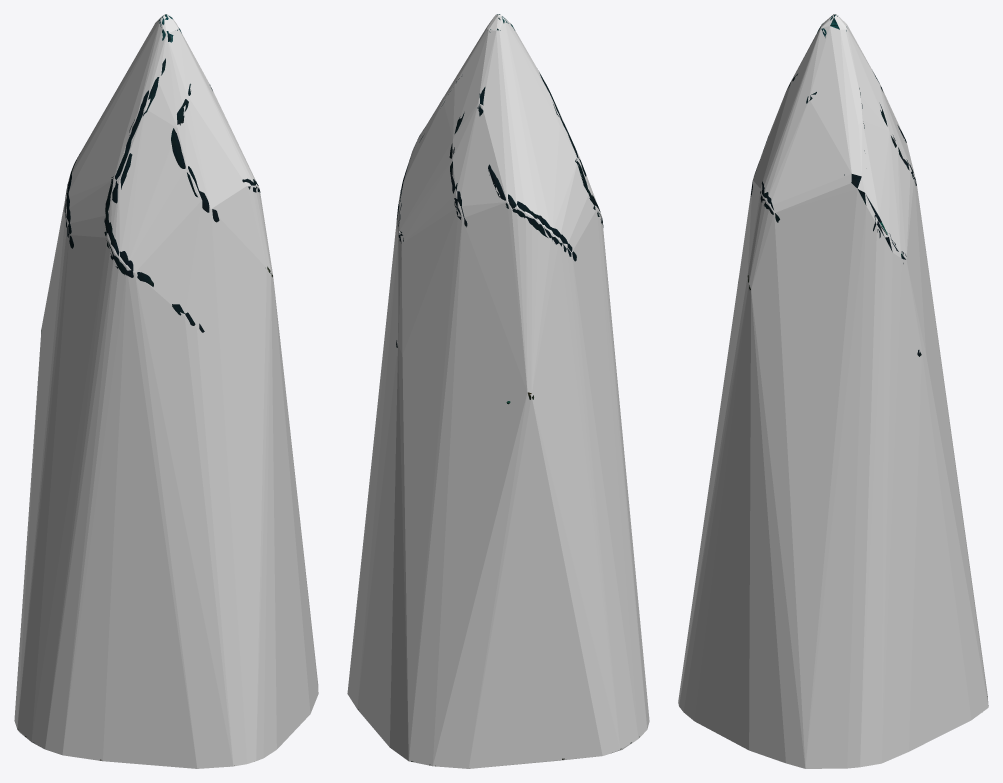
The model's file is alien_tower_hero_lod0.glb.
3 renders of one model, left to right at view 1: azimuth 30°, elevation 25°; view 2: azimuth 150°, elevation 25°; view 3: azimuth 270°, elevation 25°, orthographic.
Parts seen in each view (by area): view 1: alien_tower_hero_col, alien_tower_hero; view 2: alien_tower_hero_col, alien_tower_hero; view 3: alien_tower_hero_col, alien_tower_hero.
Boxes of the visible parts, x1=… form: alien_tower_hero_col: x1=14, y1=14, x2=318, y2=768; alien_tower_hero: x1=17, y1=14, x2=272, y2=765; alien_tower_hero_col: x1=347, y1=14, x2=649, y2=768; alien_tower_hero: x1=358, y1=14, x2=639, y2=766; alien_tower_hero_col: x1=678, y1=14, x2=988, y2=768; alien_tower_hero: x1=747, y1=14, x2=988, y2=705.
Size of the model in its own units: 24.84 by 60 by 24.54.
1 material, 1 textured.
